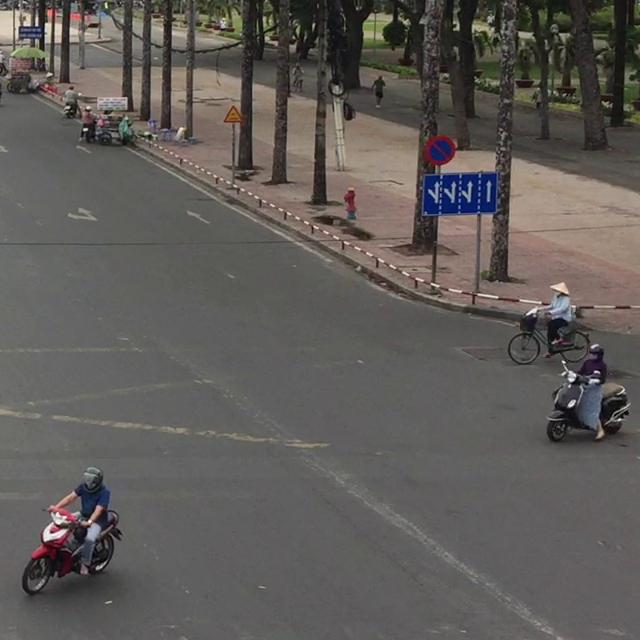Motorcycle: (21, 504, 122, 595), (545, 359, 630, 442)
